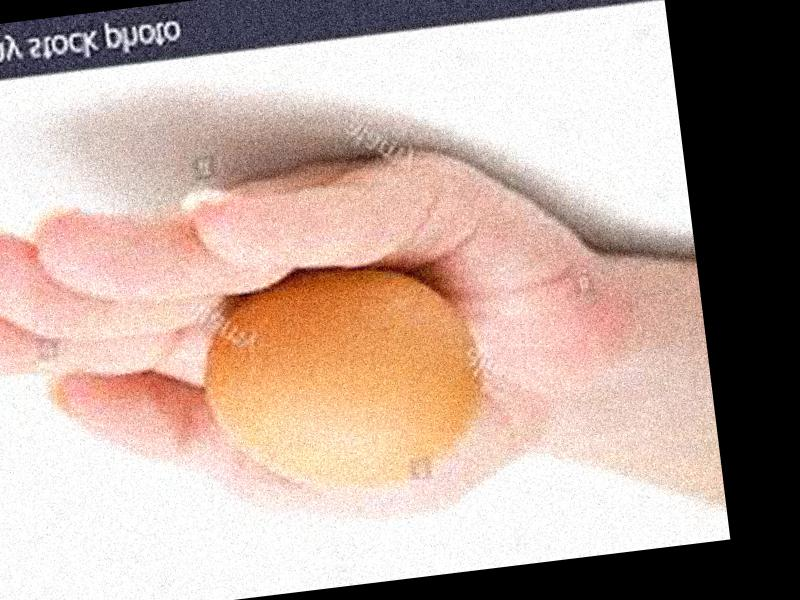Eggs: (195, 255, 495, 509)
